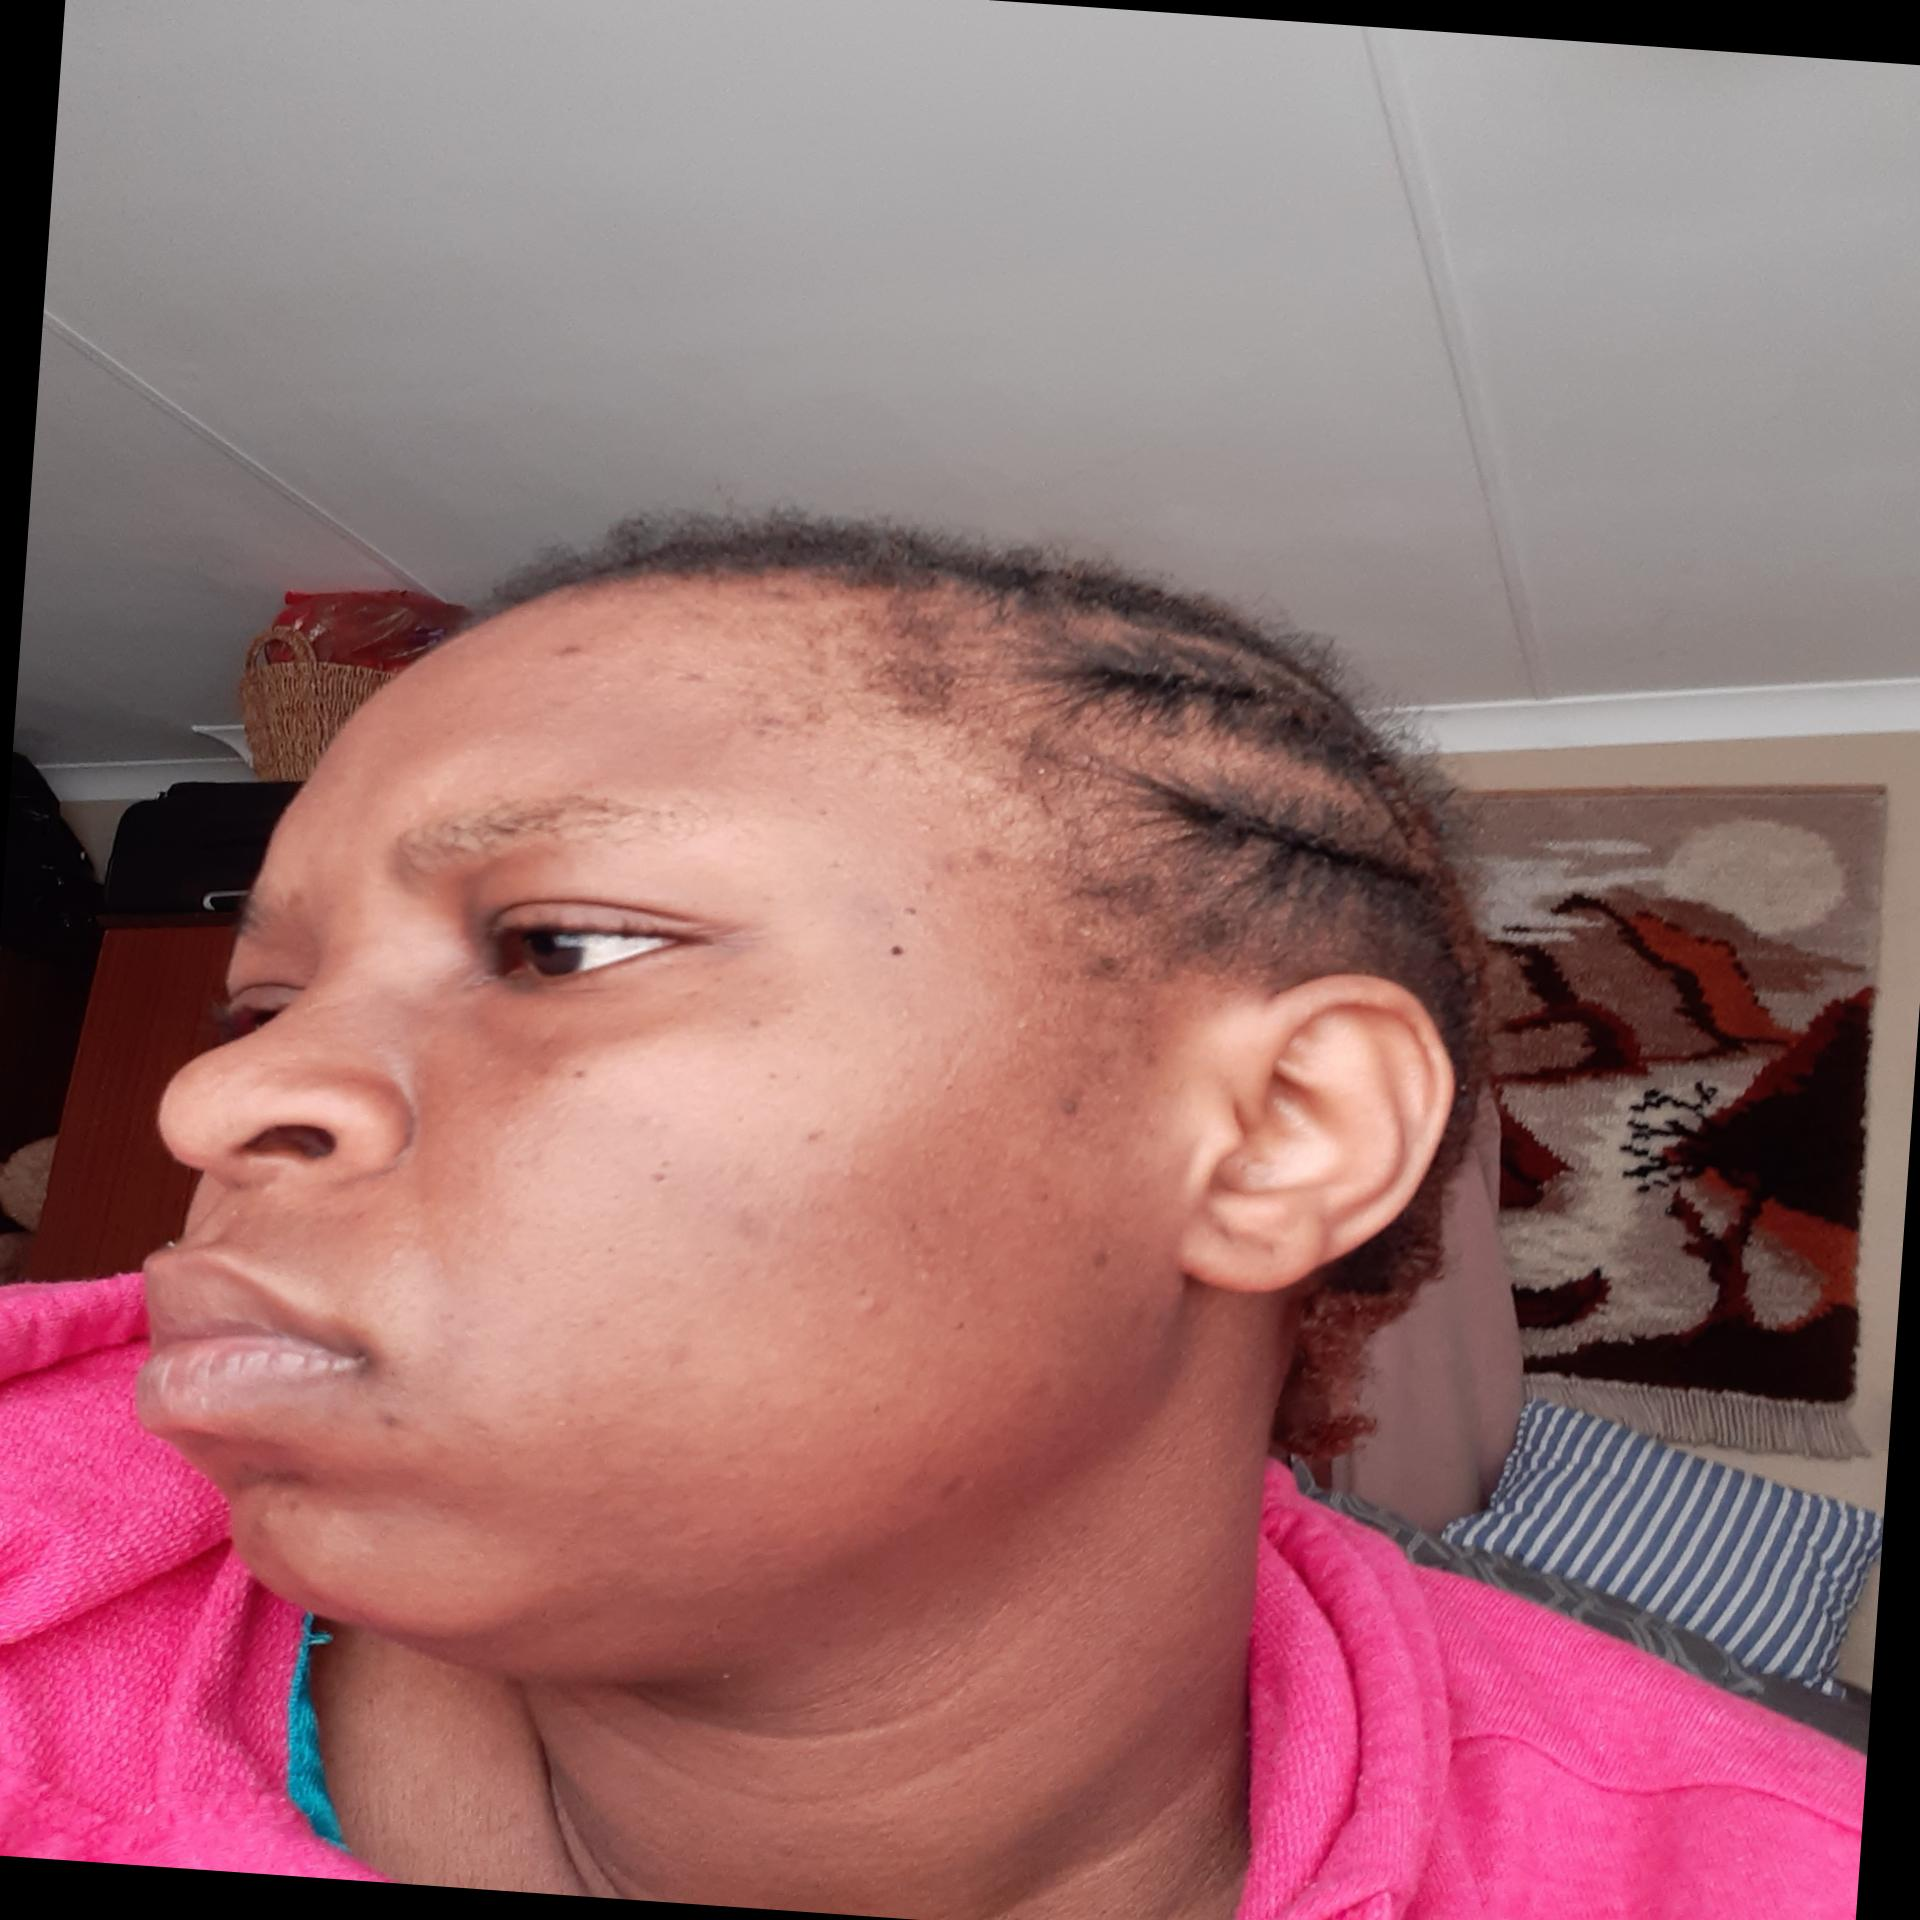Acne: (909, 840, 1007, 898), (638, 1148, 684, 1190), (846, 1287, 891, 1324), (1046, 1090, 1088, 1125), (545, 638, 593, 665), (369, 1408, 408, 1435)
